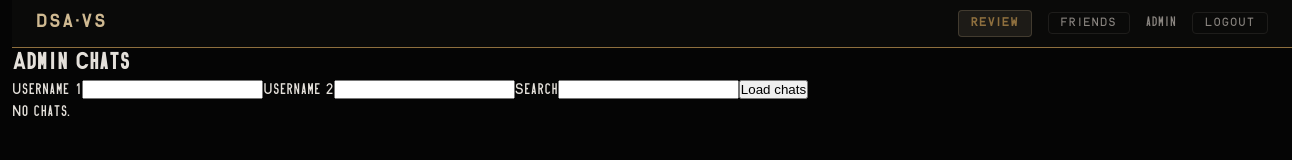
admin pages › loads and filters admin chats
This screenshot has width=1292, height=160.
Type "alice" into the field labelled "Username 1" at (173, 90), box [82,80,263,99]
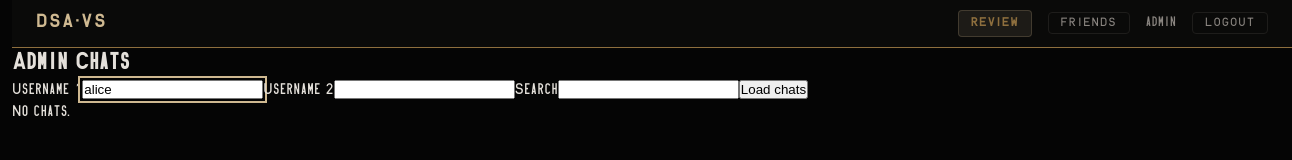
Type "bob" into the field labelled "Username 2" at (424, 90), box [334,80,515,99]
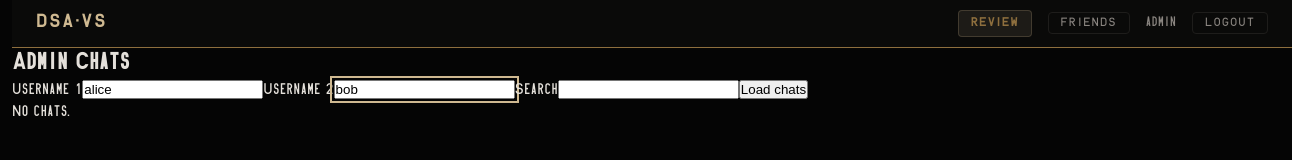
Click the button "Load chats" at (774, 90), box [739,80,808,99]
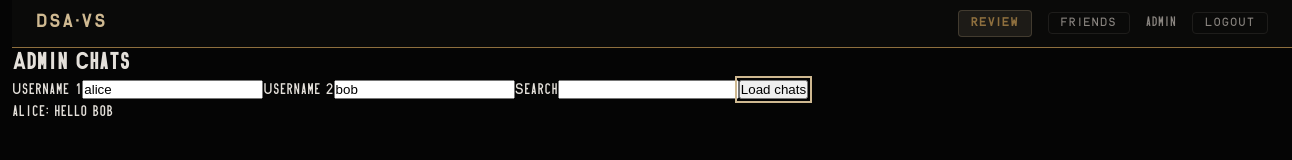
Expected: the list item "alice: hello bob" is shown, [12,106,113,119]
Type "missing" into the field labelled "Search" at (648, 90), box [558,80,739,99]
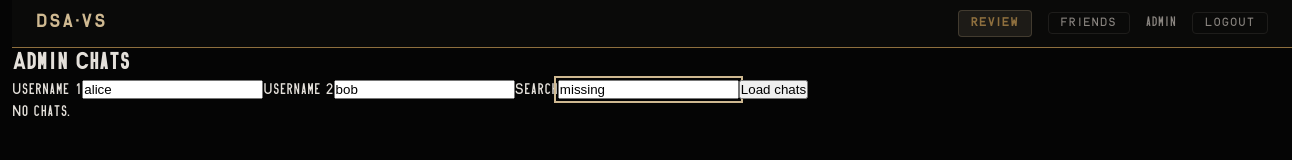
Expected: the text "No chats." is shown, [12,106,69,119]
